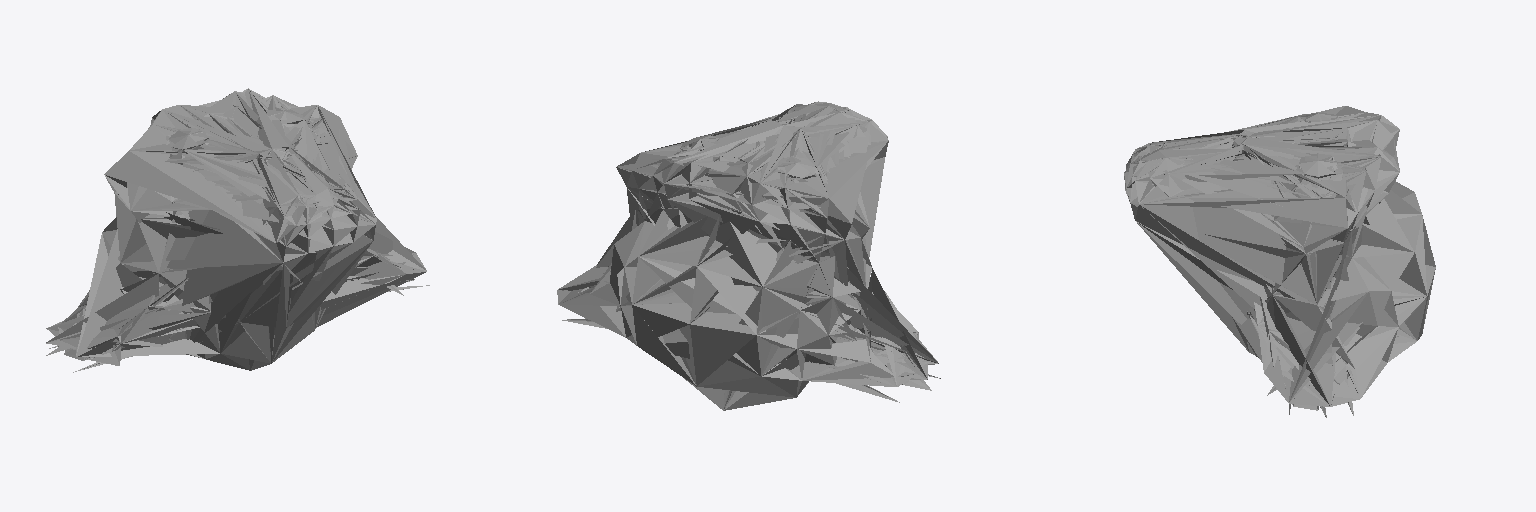
Rendered from seamed_suzanne.obj.
3 views of the same model, side by side, from view 1: azimuth 30°, elevation 25°; view 2: azimuth 150°, elevation 25°; view 3: azimuth 270°, elevation 25° (orthographic).
Size of the model in its own units: 2.73 by 1.7 by 1.97.